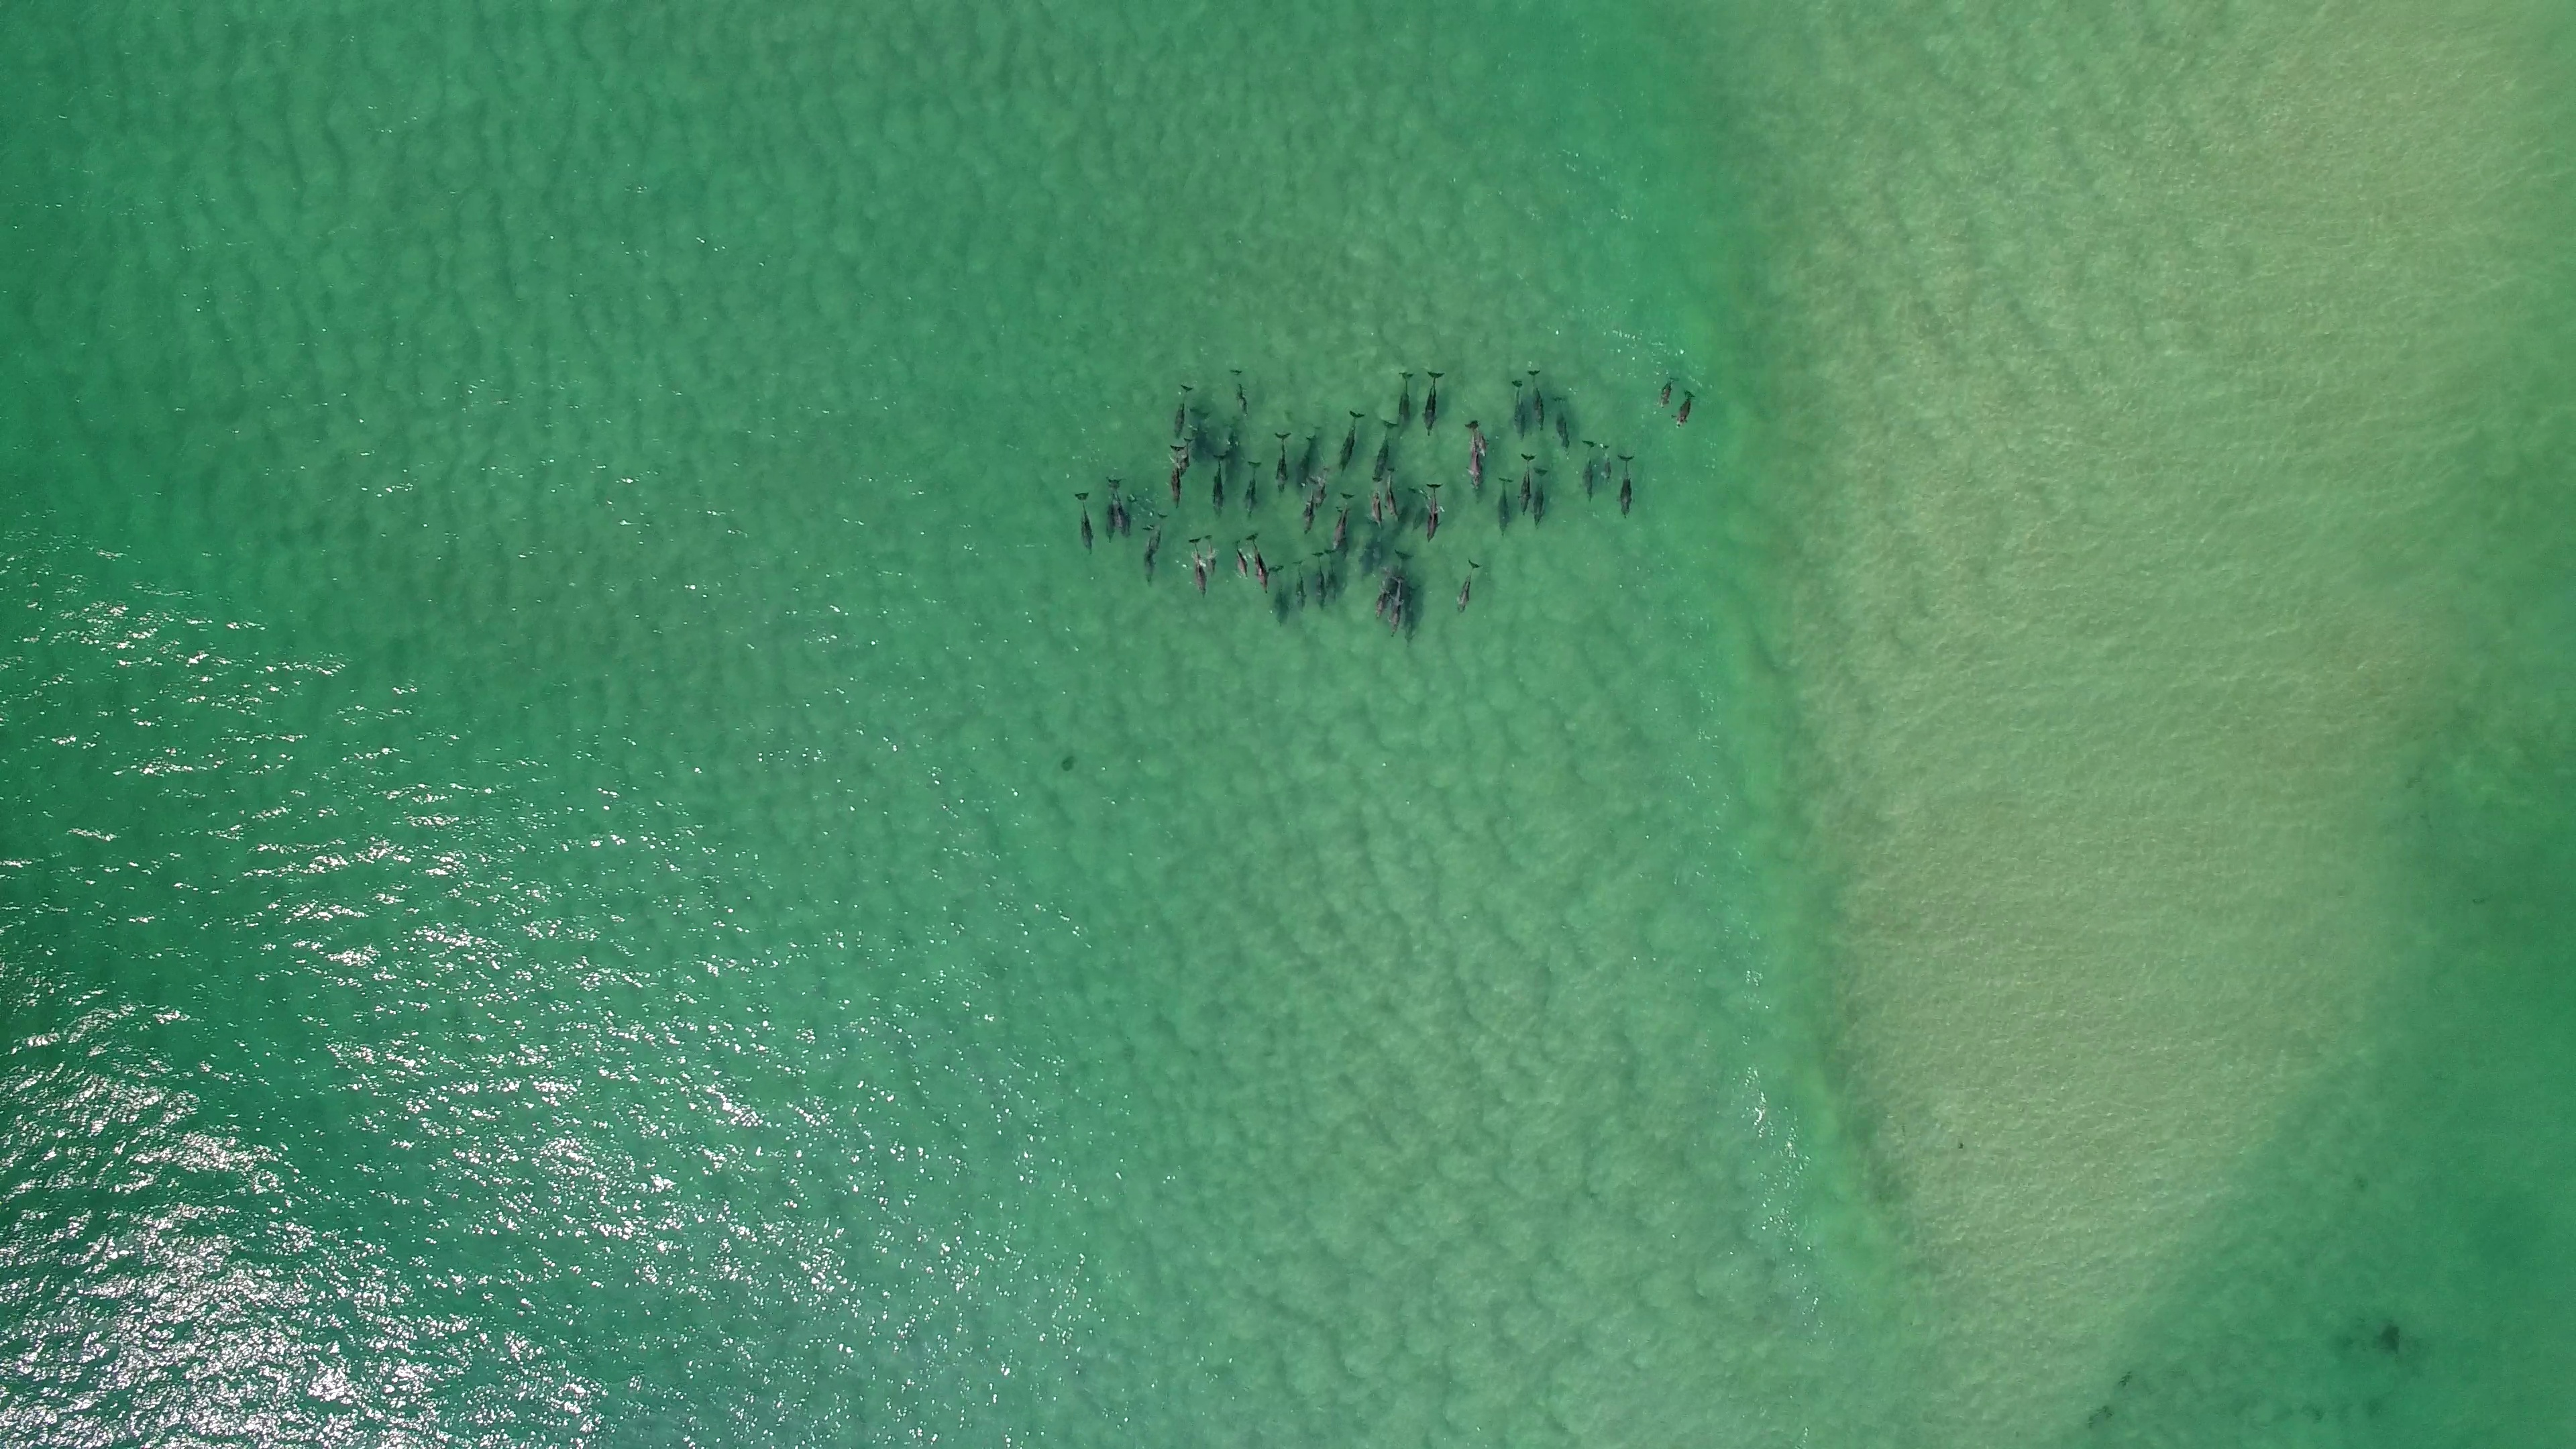dolphin: (1292, 428, 1327, 487), (1336, 405, 1364, 476), (1523, 368, 1552, 437), (1422, 364, 1445, 444), (1453, 557, 1481, 621), (1371, 414, 1396, 483), (1108, 476, 1134, 540), (1327, 490, 1353, 554), (1615, 449, 1638, 522), (1389, 571, 1414, 639), (1366, 566, 1396, 621), (1246, 534, 1270, 598), (1224, 368, 1256, 416), (1465, 423, 1484, 501), (1070, 487, 1093, 550), (1169, 380, 1194, 437), (1546, 396, 1571, 449), (1530, 467, 1552, 527), (1269, 563, 1288, 628), (1382, 474, 1405, 529), (1497, 472, 1514, 543), (1208, 453, 1226, 522), (1272, 428, 1290, 497), (1511, 375, 1529, 444), (1580, 437, 1598, 506), (1185, 540, 1207, 596), (1299, 481, 1320, 534), (1672, 386, 1698, 428), (1518, 451, 1534, 522), (1396, 366, 1412, 433), (1244, 458, 1261, 518), (1309, 550, 1327, 609), (1366, 479, 1385, 533), (1166, 446, 1182, 510), (1424, 479, 1440, 543), (1467, 418, 1491, 458), (1104, 479, 1120, 541), (1656, 375, 1683, 409), (1292, 561, 1307, 616), (1596, 439, 1614, 487), (1231, 540, 1251, 580), (1143, 524, 1155, 587), (1224, 421, 1242, 464), (1203, 540, 1221, 580), (1313, 472, 1332, 508), (1150, 511, 1166, 548), (1180, 435, 1192, 476)
